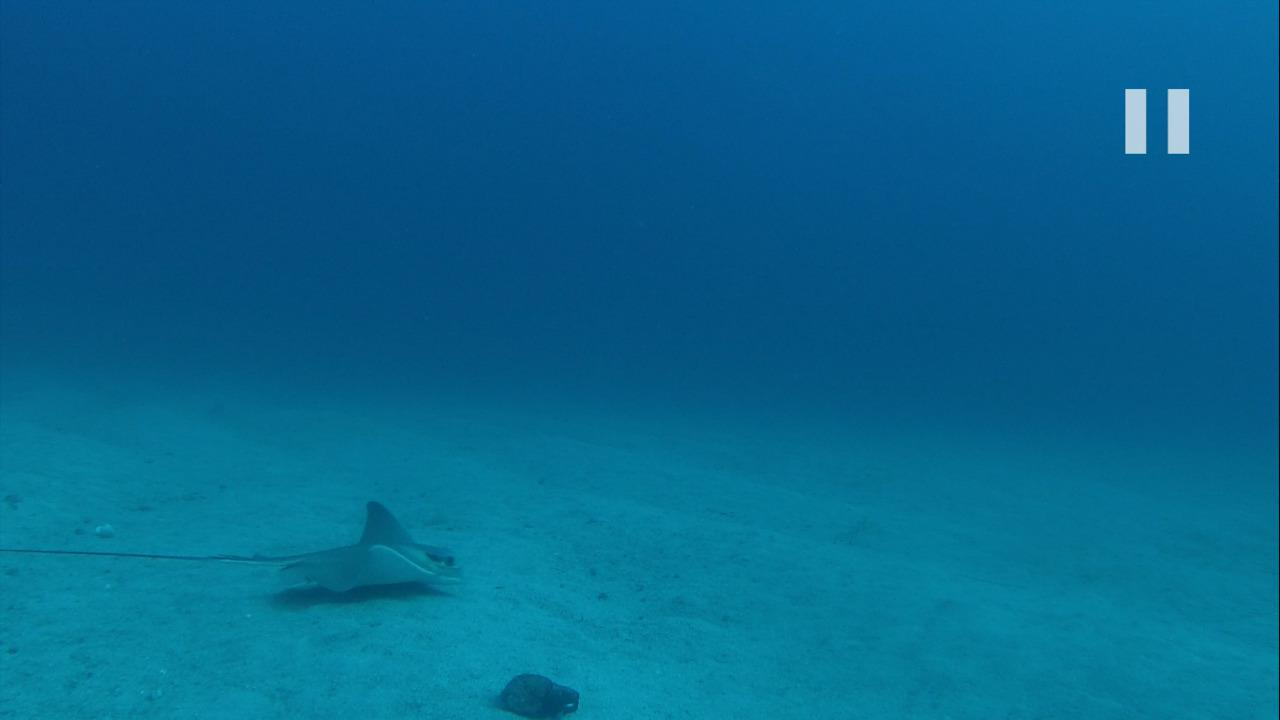myliobatis: (1, 495, 467, 604)
